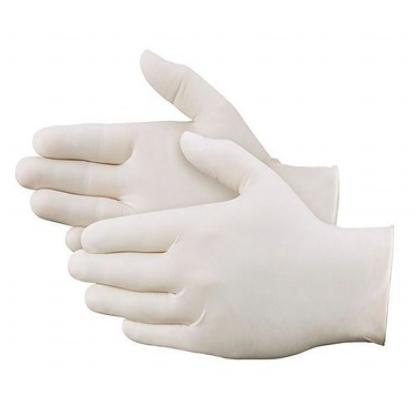with_gloves: (16, 51, 395, 363)
